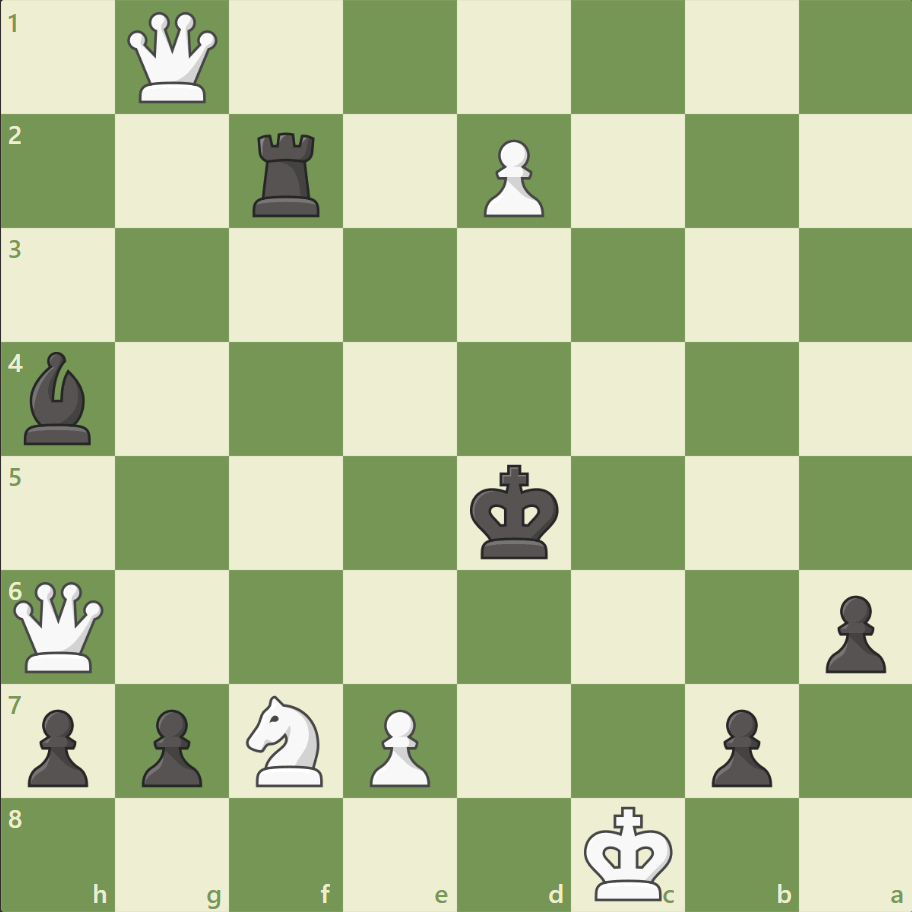K: (579, 798, 679, 906)
N: (238, 688, 335, 791)
P: (474, 132, 549, 223), (361, 700, 435, 791)
Q: (10, 576, 109, 676), (124, 9, 223, 108)
b: (17, 347, 101, 449)
k: (465, 458, 565, 566)
p: (701, 700, 776, 791), (133, 700, 208, 791), (20, 700, 95, 791), (815, 586, 889, 677)
r: (246, 125, 329, 222)
